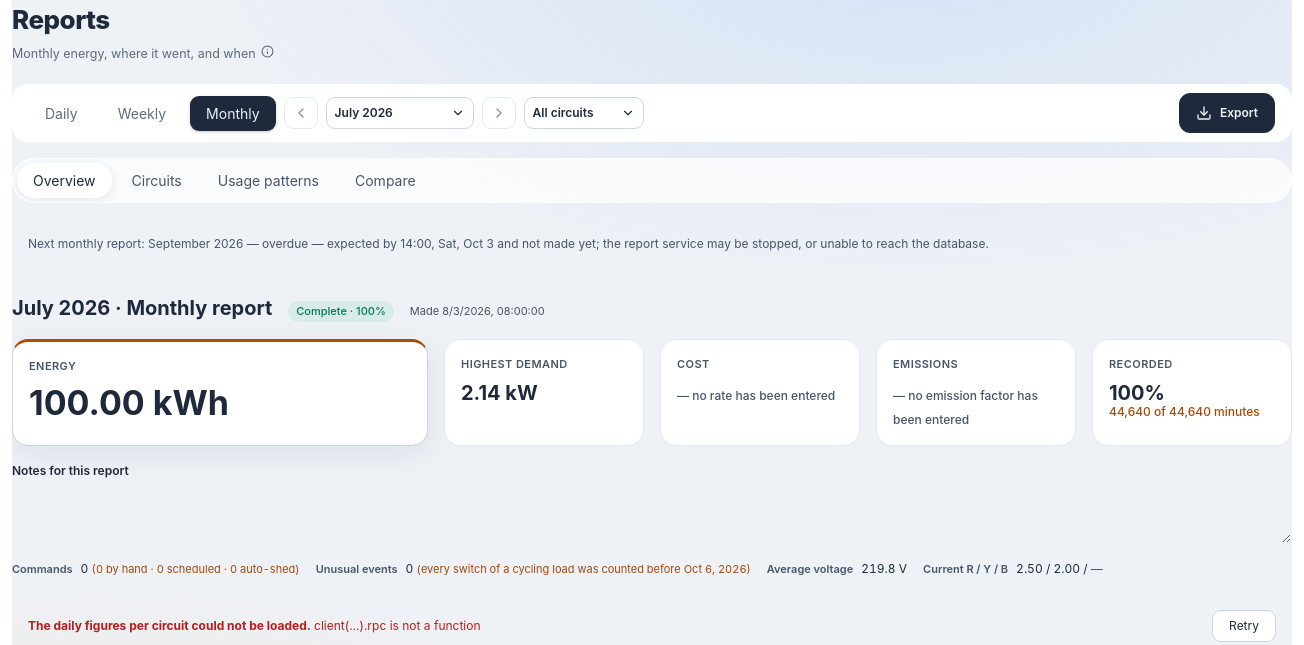
Test: ReportsPage — when something fails › contains a chart that cannot be drawn to its own card, and keeps the rest of the report
Expected: the text "100.00 kWh" is shown, [29, 382, 229, 422]
# RM-096: the busy hours chart lives on Usage patterns.
Click the tab "Usage patterns" at [268, 180], box [202, 163, 335, 198]
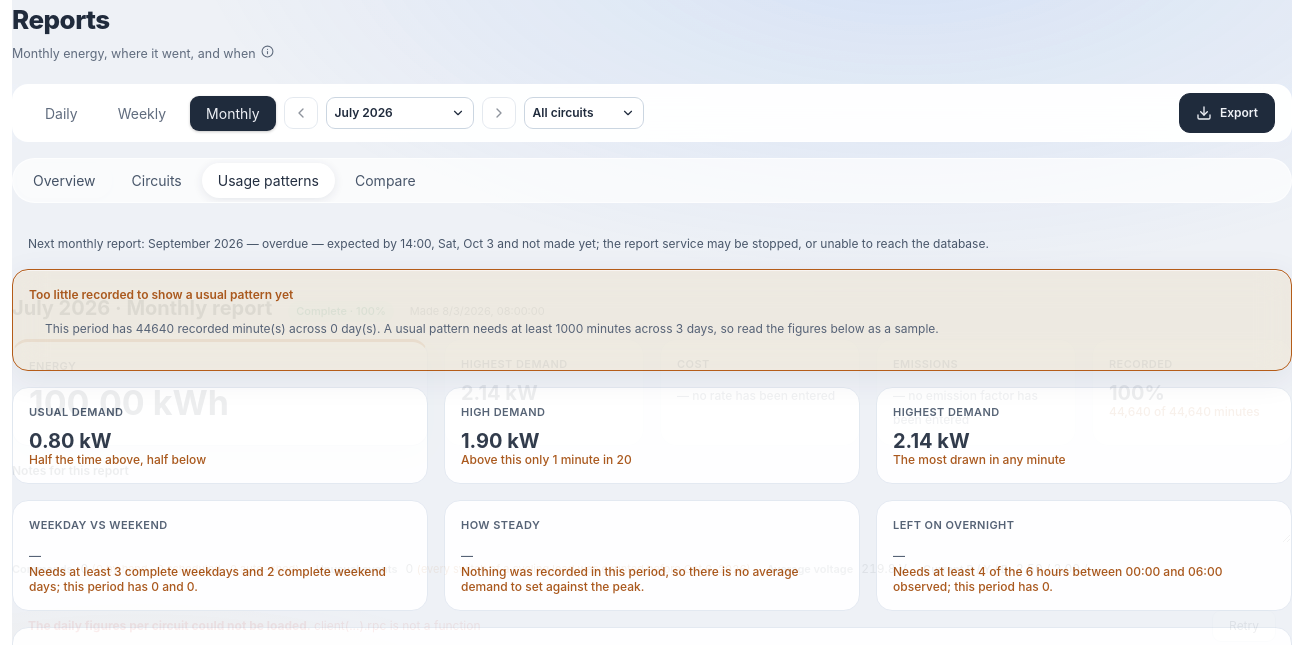
Result: the text "Usual demand" is shown at [29, 405, 124, 419]
